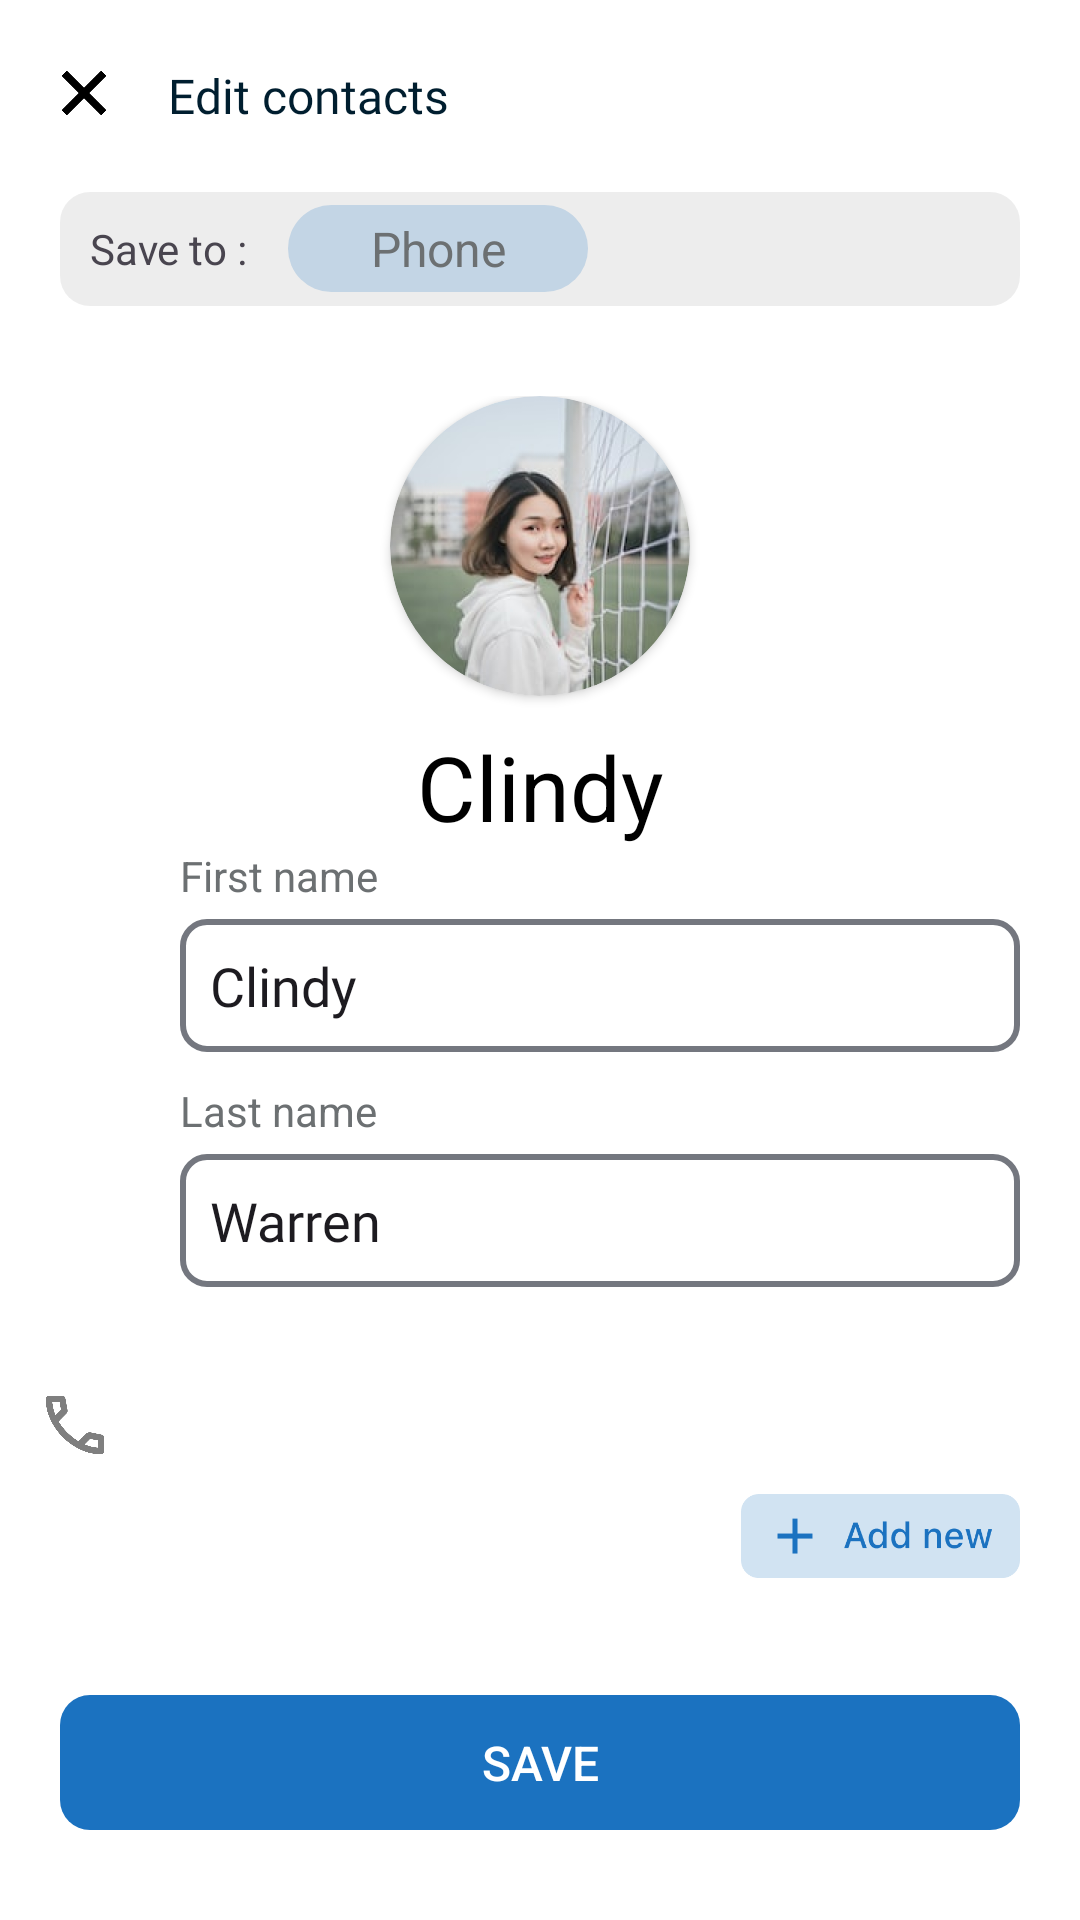

Named icons in this screenshot (1080w x 1920h) and their bounding boxes, (left=x1, top=y1, right=x2, bottom=y2):
call: (left=46, top=1396, right=104, bottom=1454)
crooss: (left=62, top=71, right=106, bottom=115)
